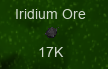Iridium: (15, 8, 87, 59)
